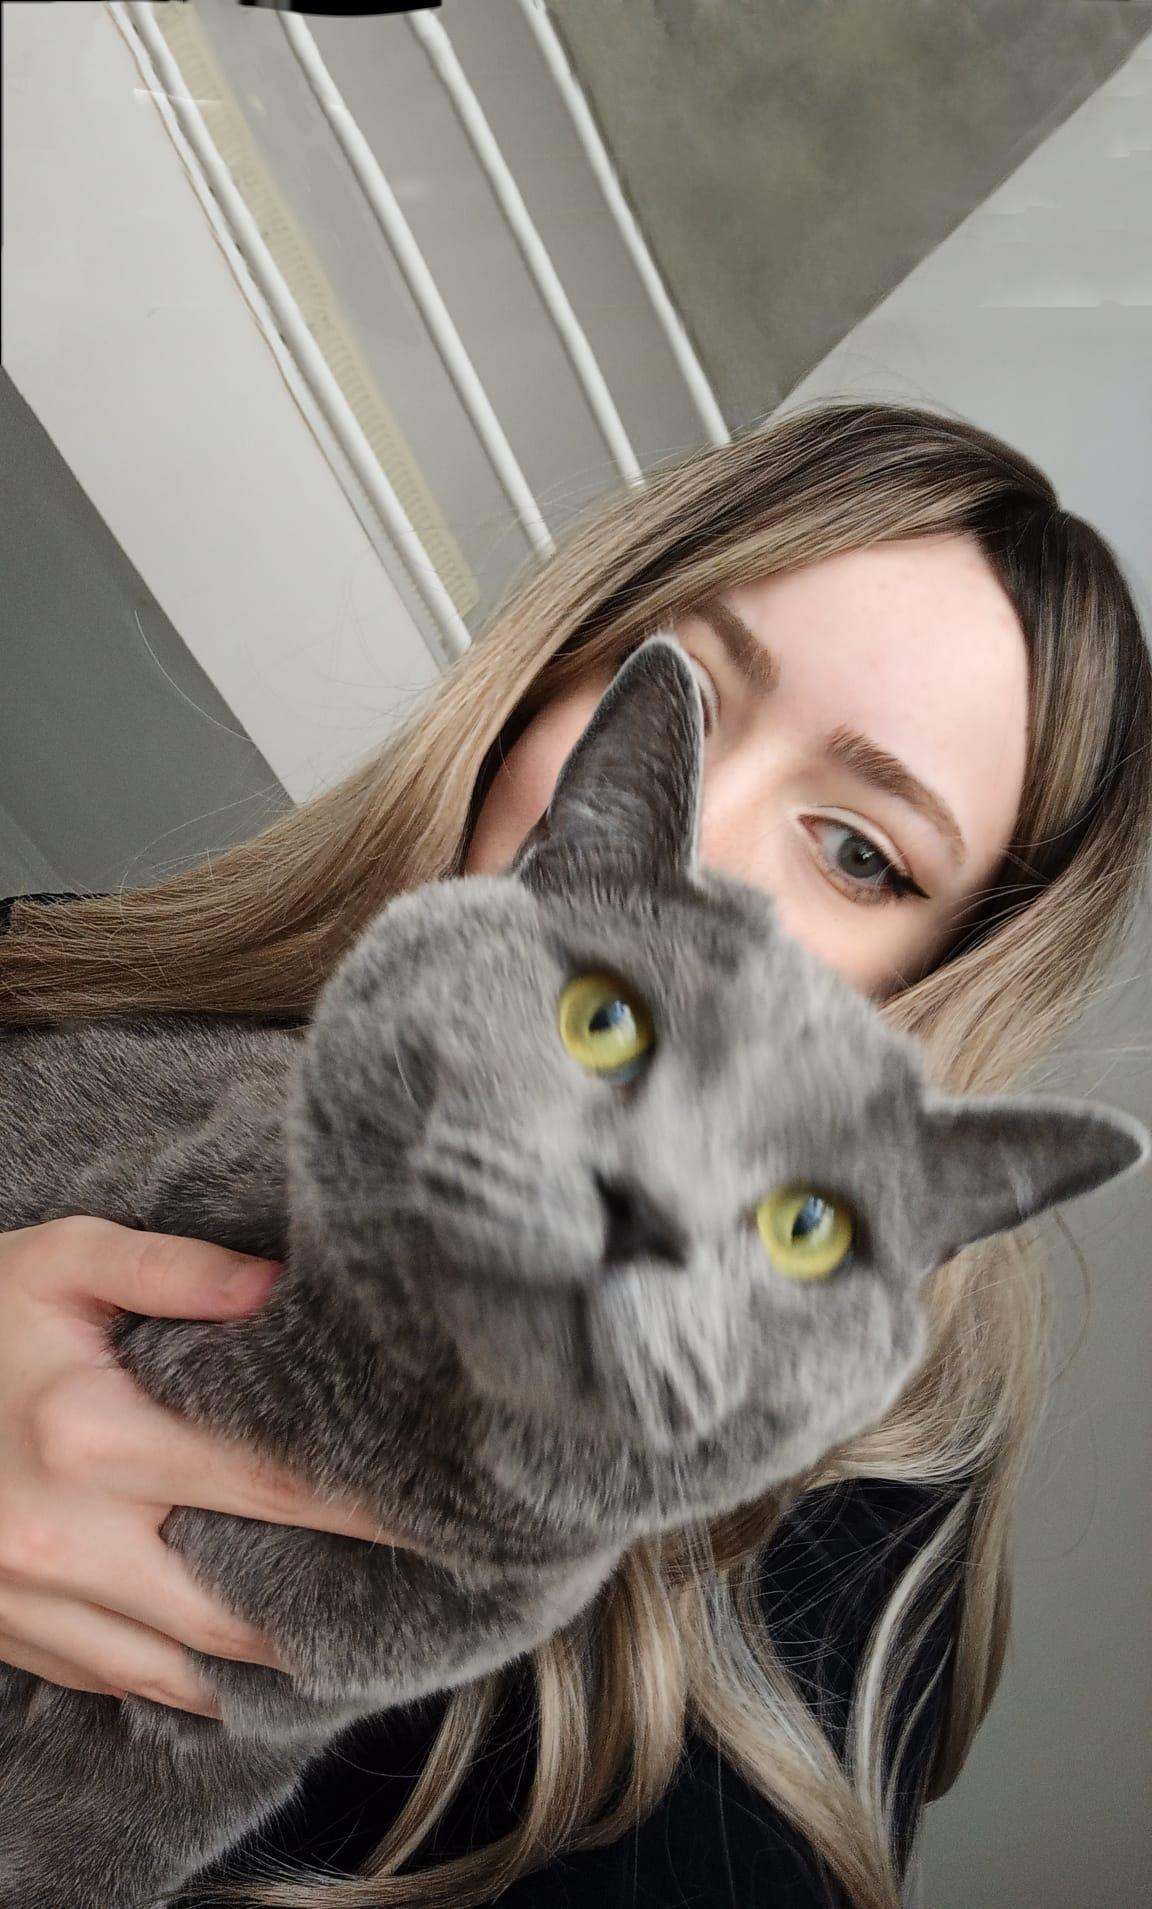kedo: (308, 650, 1136, 1524)
